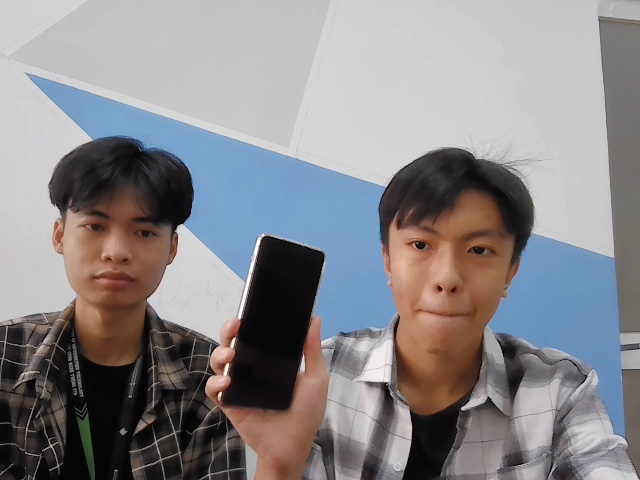human: (380, 148, 534, 352), (49, 137, 193, 311)
phone: (220, 234, 326, 413)
